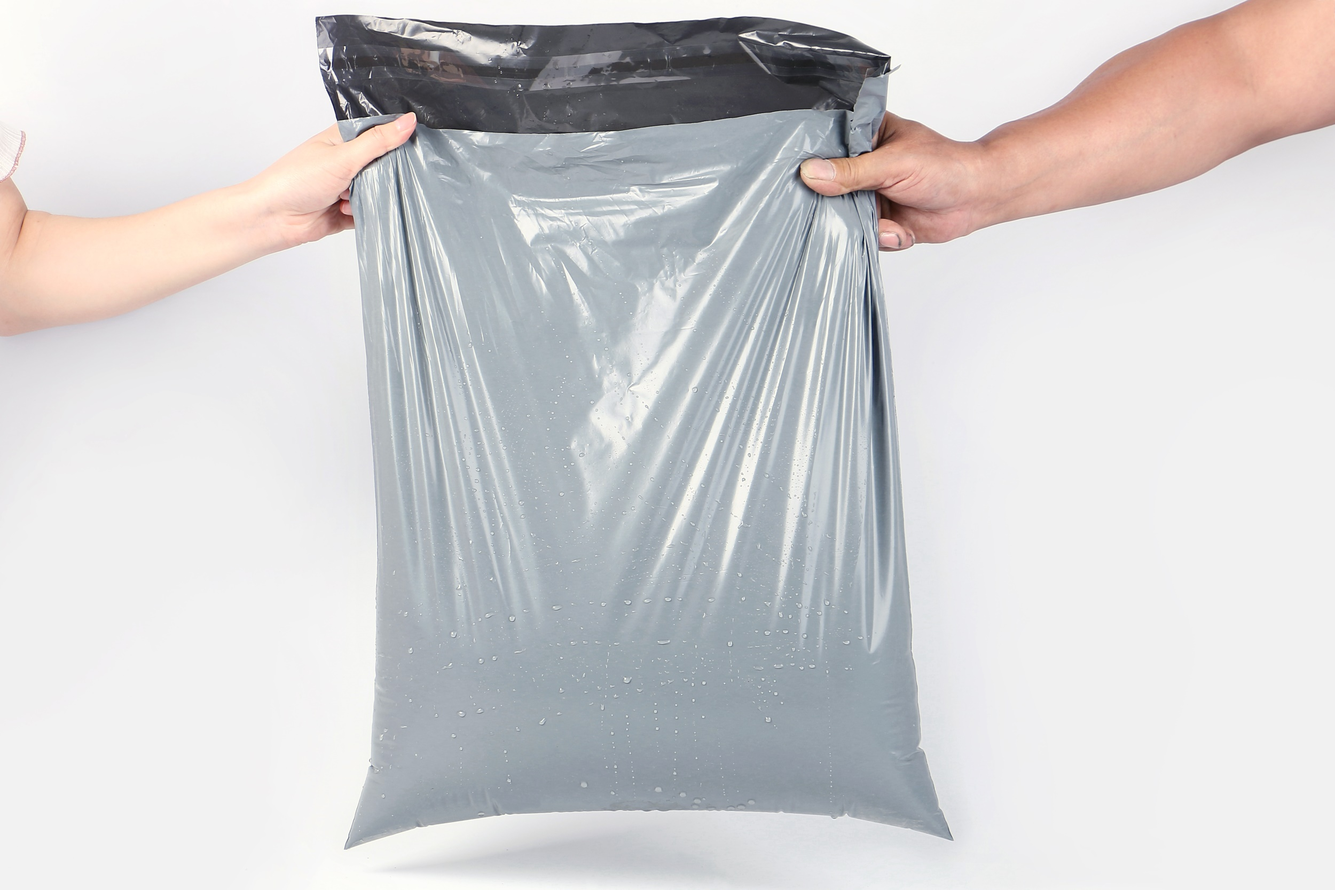Parcel: (332, 76, 948, 847)
